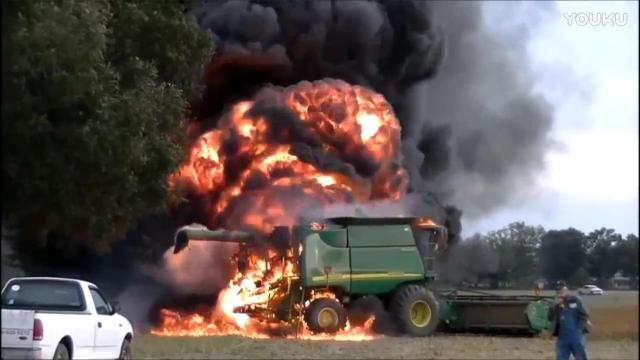fire: (343, 97, 389, 151), (183, 138, 221, 188), (160, 310, 220, 334), (228, 100, 262, 139), (220, 281, 248, 327), (248, 146, 294, 173), (301, 328, 377, 341), (309, 170, 341, 195), (242, 276, 268, 302), (245, 254, 267, 276), (223, 327, 269, 337), (308, 290, 336, 300), (271, 260, 281, 282), (284, 258, 294, 278)
